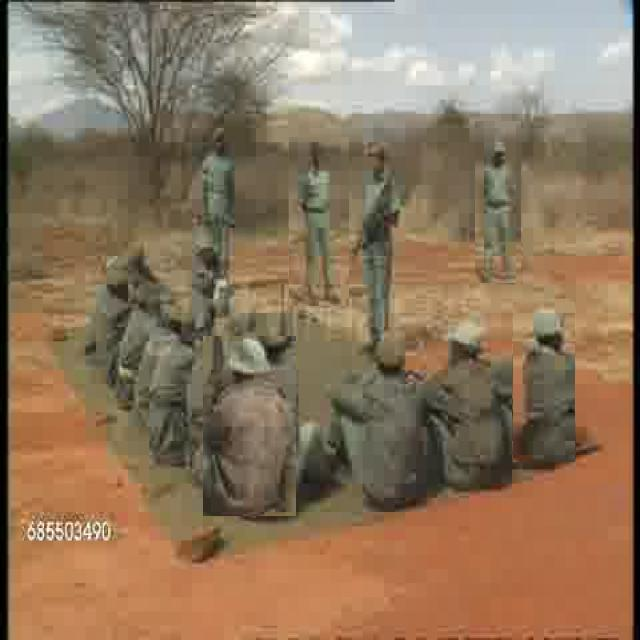poacher: (203, 336, 296, 516), (333, 343, 432, 507), (438, 318, 502, 491), (290, 137, 350, 306), (513, 302, 575, 462), (357, 135, 399, 349), (475, 121, 521, 283), (145, 324, 199, 462), (198, 121, 250, 226)
